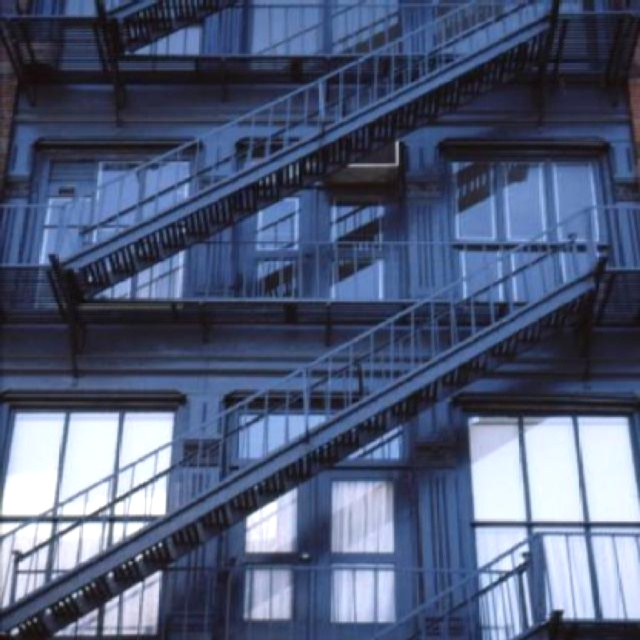stair: (0, 261, 603, 640), (46, 0, 554, 305), (2, 0, 245, 72)
